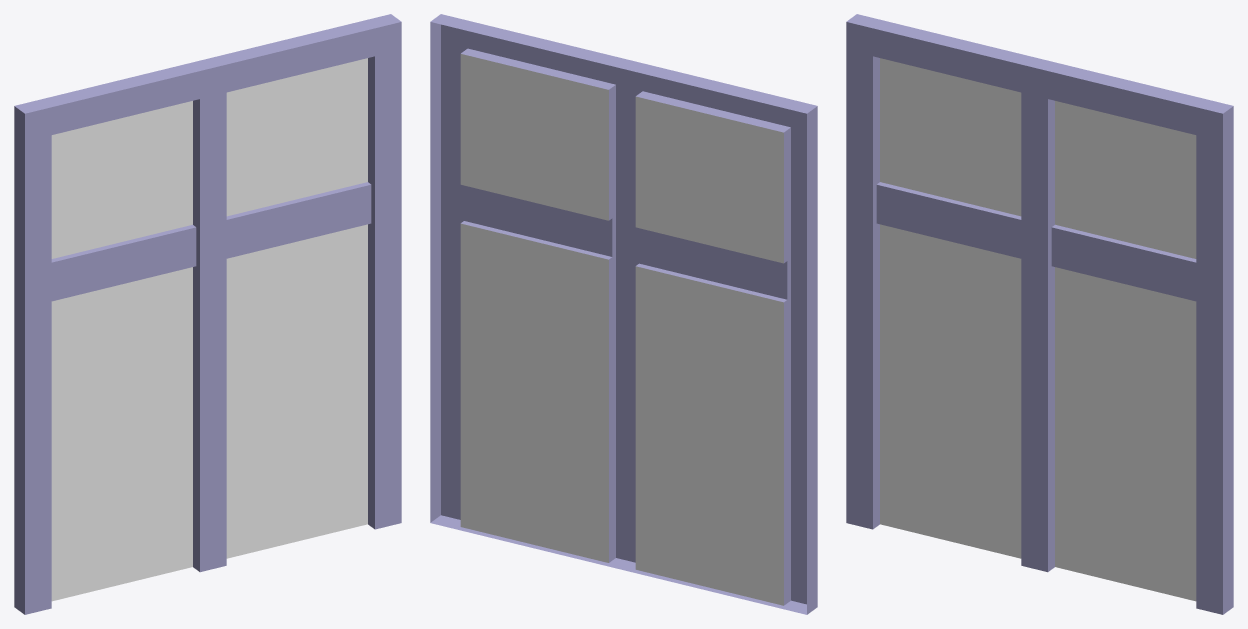
The model's file is door5.obj.
3 renders of one model, left to right at view 1: azimuth 30°, elevation 25°; view 2: azimuth 150°, elevation 25°; view 3: azimuth 330°, elevation 25°, orthographic.
Parts seen in each view (by area): view 1: mergedBlocks; view 2: mergedBlocks; view 3: mergedBlocks.
Part boxes in pixels (x1=…): mergedBlocks: x1=14, y1=14, x2=401, y2=614; mergedBlocks: x1=430, y1=14, x2=817, y2=614; mergedBlocks: x1=846, y1=14, x2=1233, y2=614.
Size of the model in its own units: 0.6088 by 0.7738 by 0.03.
